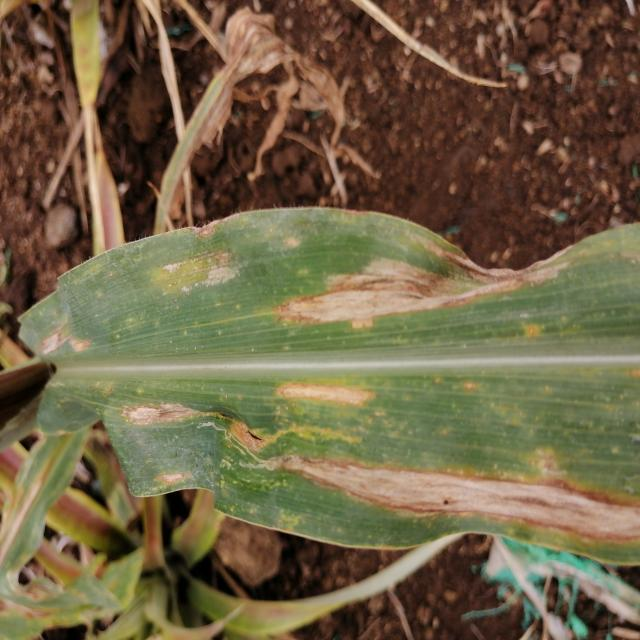Corn_Leaf_Blight: (40, 206, 640, 571)
